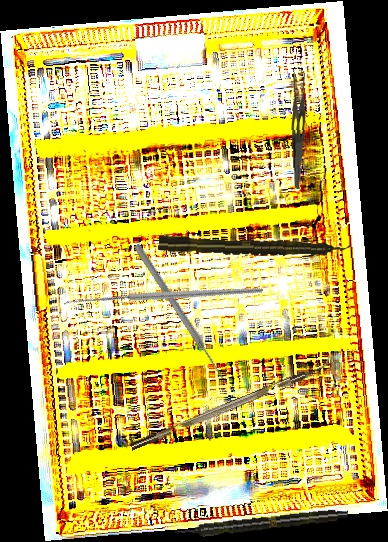Chopper: (125, 351, 337, 451)
Dressing Forceps: (288, 71, 313, 189)
Handpiece: (174, 506, 349, 540), (158, 234, 350, 259)
Hook Surgical: (58, 209, 265, 392)
Pusher: (132, 242, 227, 382)
